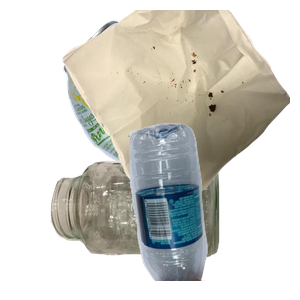glass: (48, 156, 260, 300)
metal: (60, 18, 300, 198)
plastic: (127, 120, 300, 300)
trash: (60, 10, 300, 190)
